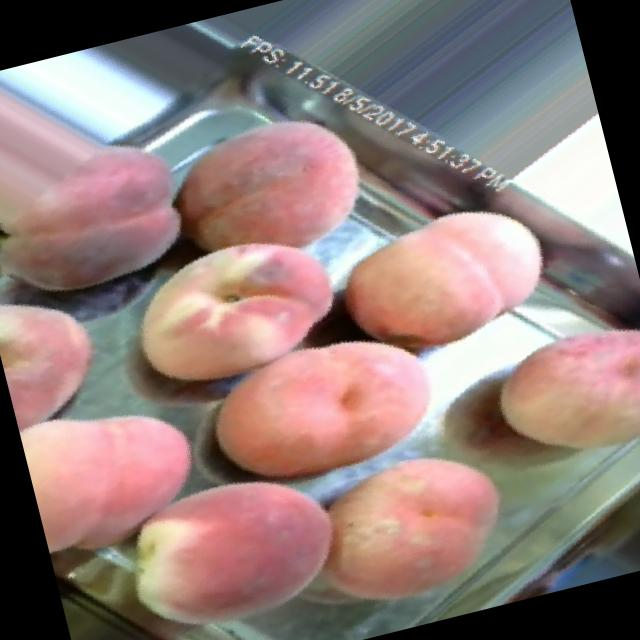Fruit: (0, 30, 226, 354), (302, 158, 579, 392), (134, 76, 402, 302), (82, 437, 380, 640), (281, 421, 545, 640), (98, 215, 372, 425), (176, 309, 467, 503), (12, 363, 236, 592), (458, 287, 640, 503), (0, 267, 127, 432)
